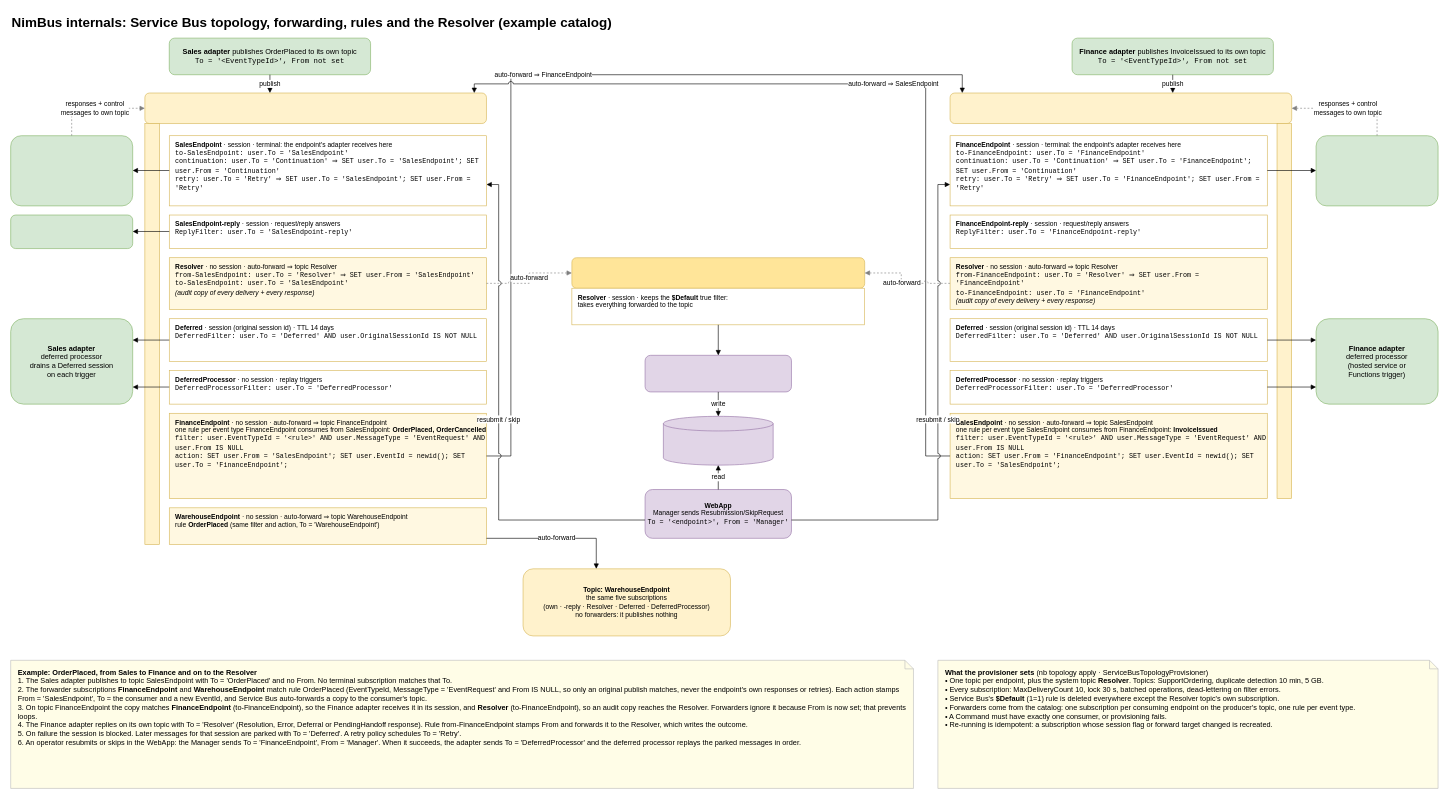
Image size: 1449x799. Some labels were removed from this diagram. The centre of each missing label's shape, as x and y in pixels:
Finance adapter Worker receiver, or [ServiceBusTrigger] with sessions: the point at 1376,170
message store SQL Server or Cosmos DB: the point at 718,440
Resolver (Azure Function) records each outcome: the point at 717,373
Sales adapter NimBus receiver handlers, inbox, retry policies: the point at 71,170
Sales adapter Request() waits here: the point at 71,231
Topic: FinanceEndpoint: the point at 1120,108
Topic: Resolver (system topic): the point at 718,272
Topic: SalesEndpoint: the point at 315,108
